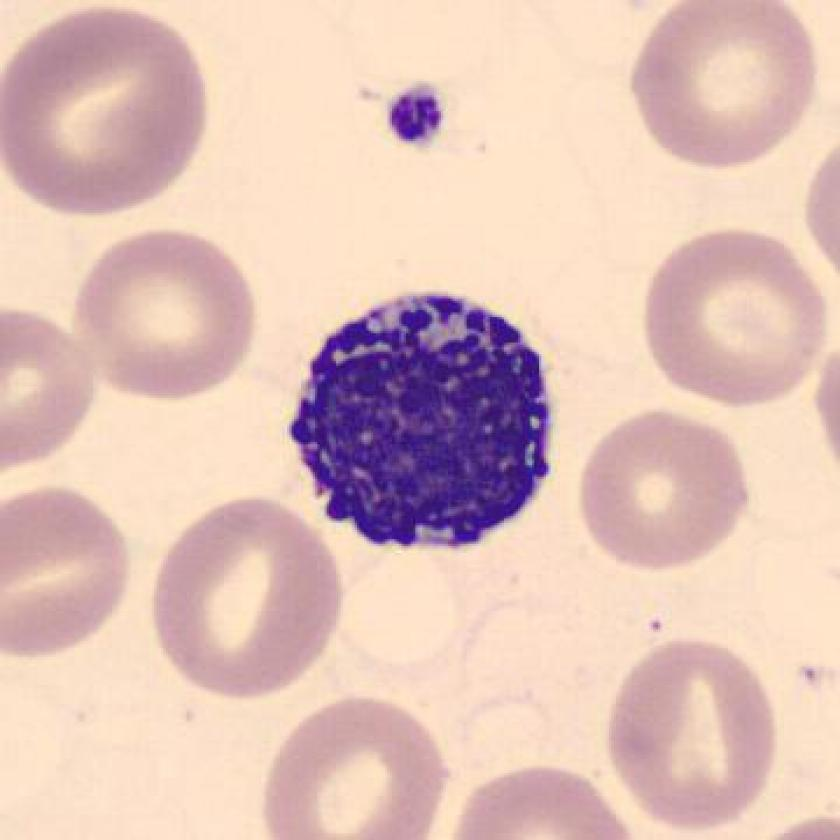basophil: (281, 279, 573, 559)
